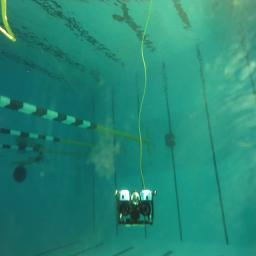Full: (165, 139, 176, 146)
front: (114, 189, 158, 228)
